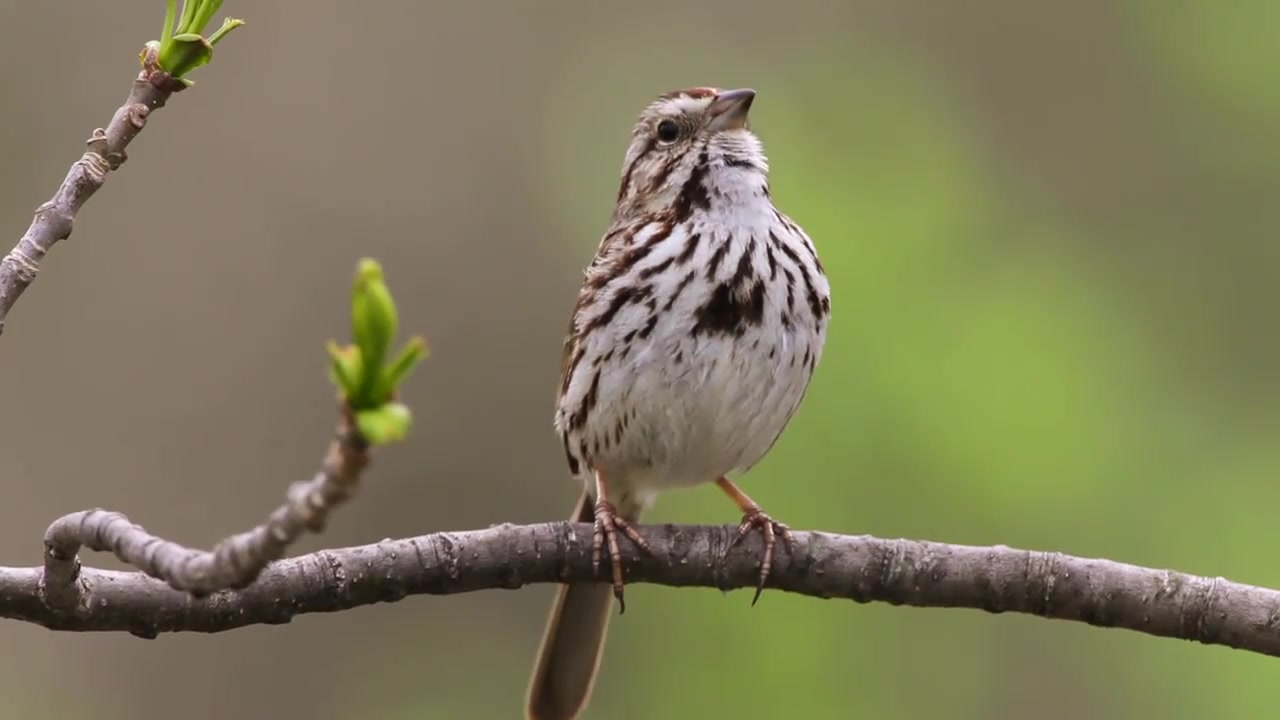bird: (525, 87, 834, 720)
